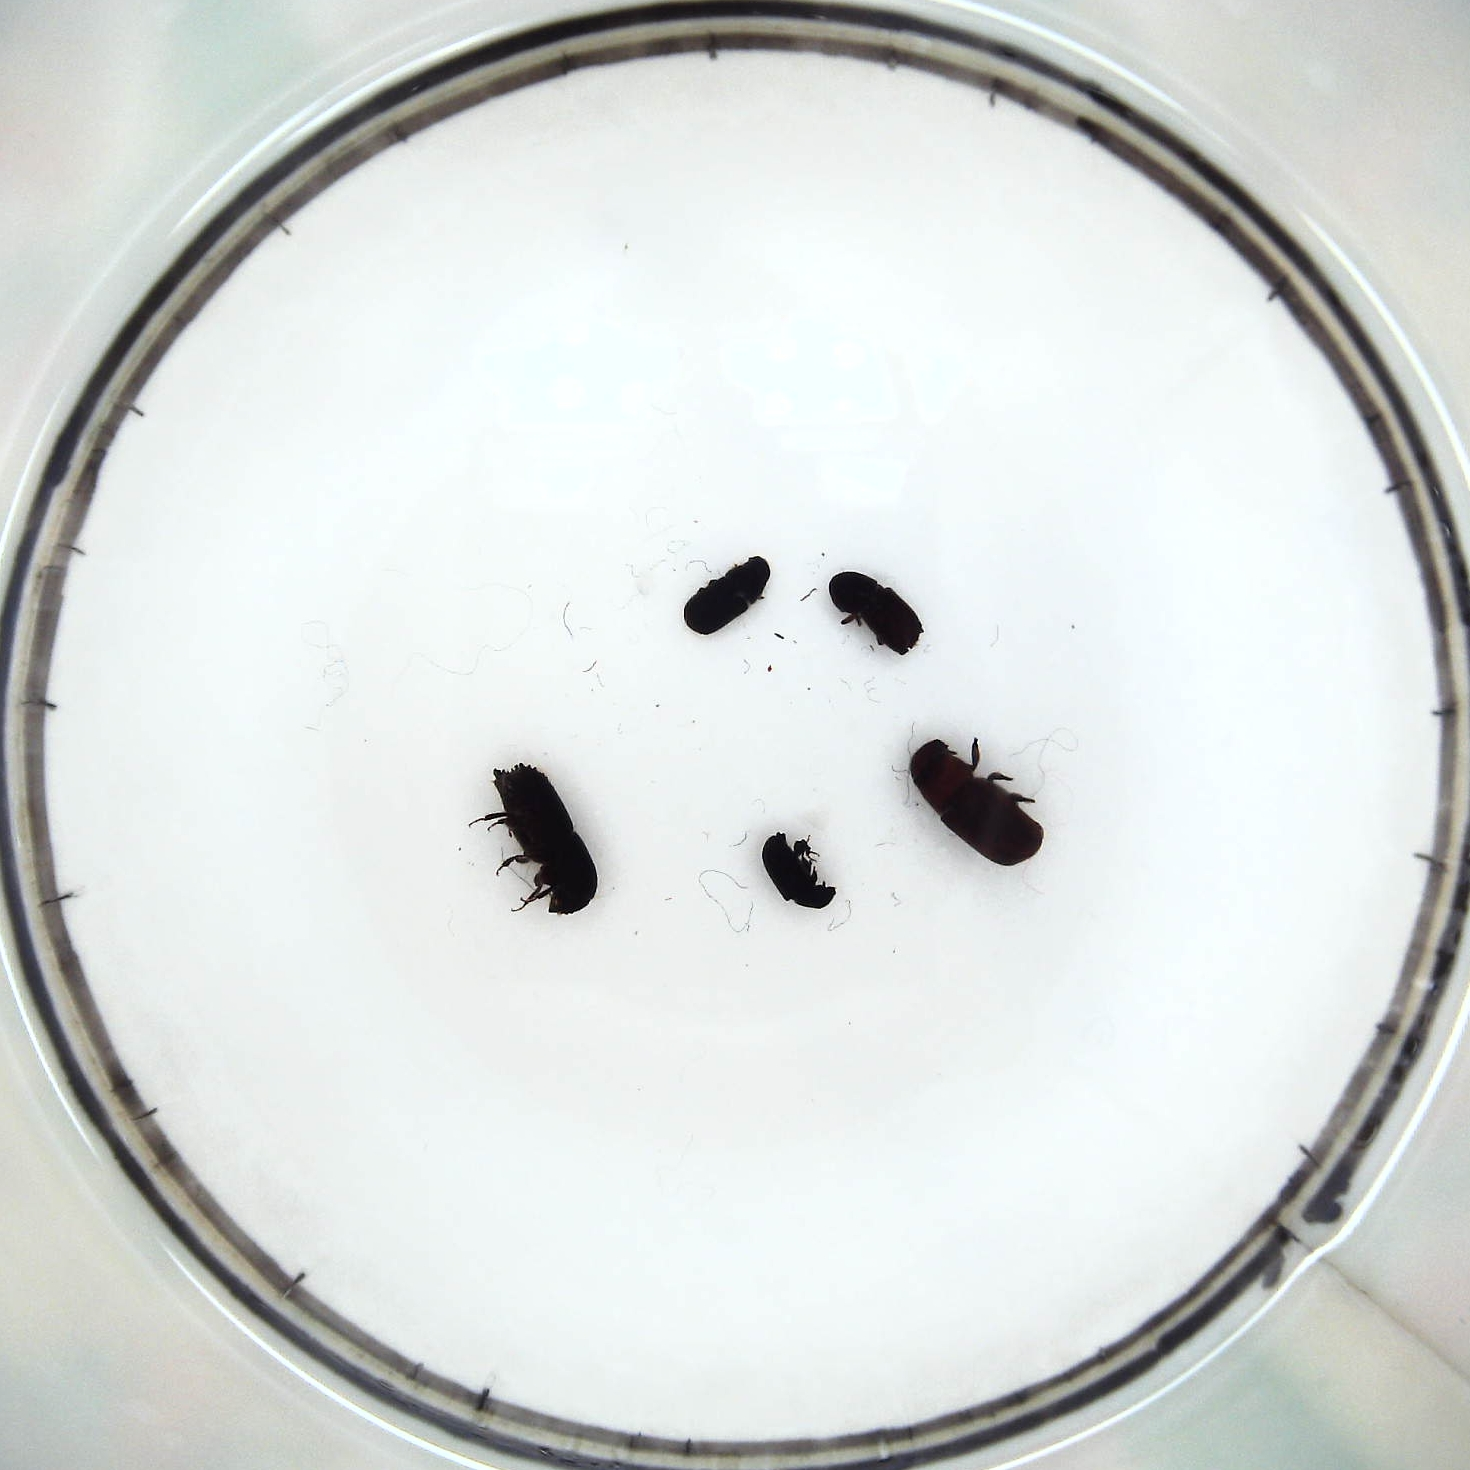Boerner: (487, 761, 596, 919)
Leconte: (910, 736, 1046, 874)
Linnaeus: (827, 569, 925, 658)
armandi: (685, 555, 771, 635)
coleoptera: (758, 831, 836, 910)
